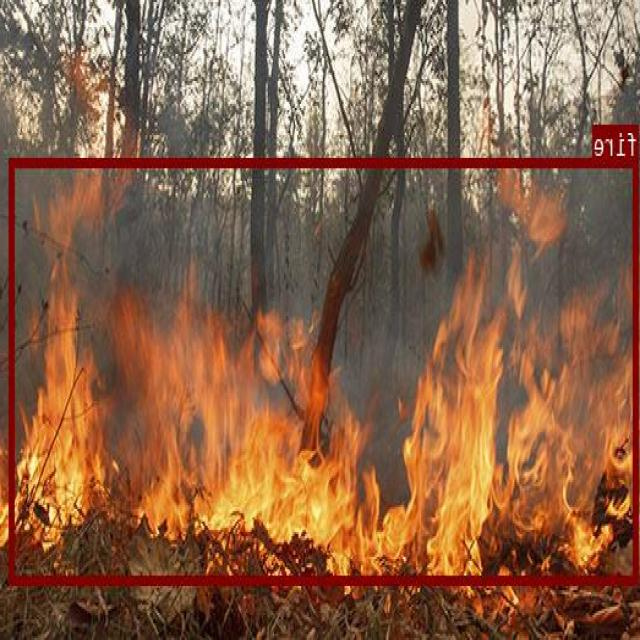fire: (11, 156, 639, 583)
